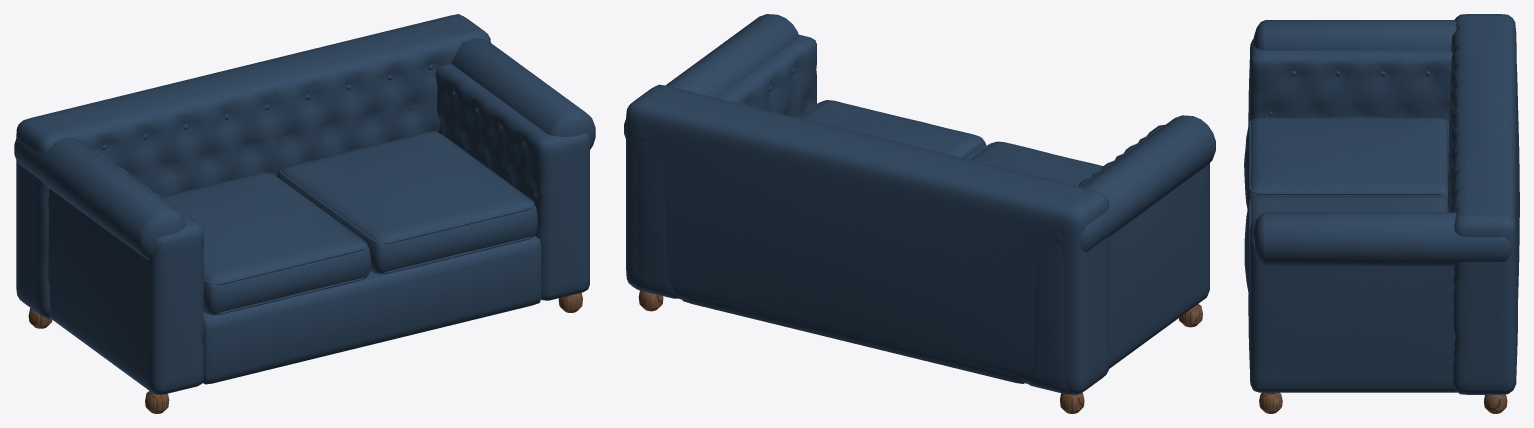
File: sofa_capitone_2p_azul.glb
The picture shows the model from 3 angles, left to right: view 1: azimuth 30°, elevation 25°; view 2: azimuth 150°, elevation 25°; view 3: azimuth 270°, elevation 25°; orthographic projection. The views are drawn at different scales.
Parts seen in each view (by area): view 1: sofa_capitone_2p_azul; view 2: sofa_capitone_2p_azul; view 3: sofa_capitone_2p_azul.
Boxes of the visible parts, x1=… form: sofa_capitone_2p_azul: x1=14, y1=14, x2=595, y2=413; sofa_capitone_2p_azul: x1=624, y1=14, x2=1215, y2=413; sofa_capitone_2p_azul: x1=1244, y1=14, x2=1519, y2=413.
Size of the model in its own units: 1.72 by 0.7481 by 0.9326.
2 materials, 2 textured.
